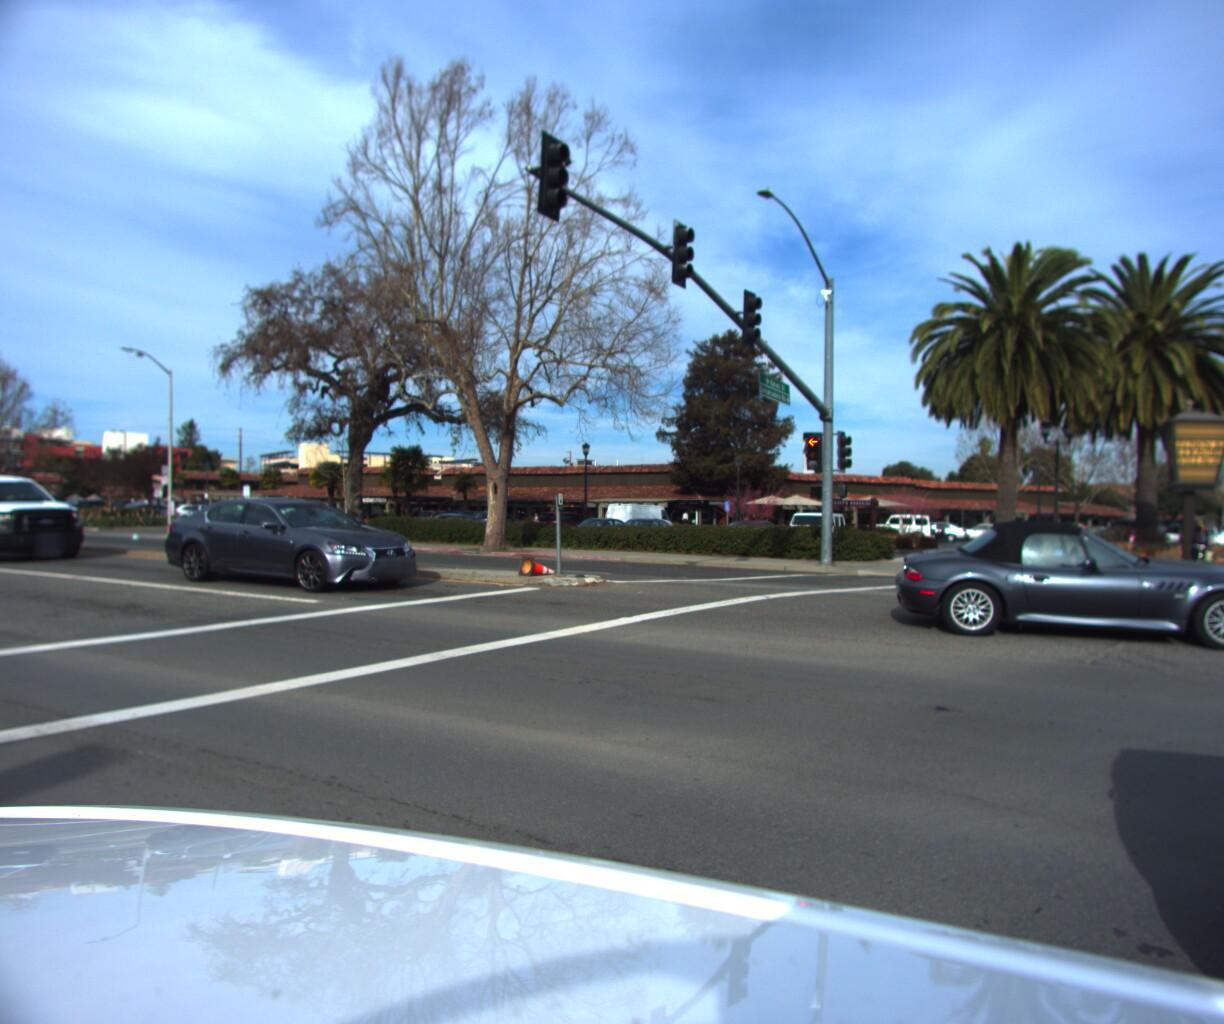car: (884, 516, 1224, 651), (155, 500, 430, 597), (0, 470, 98, 566), (777, 507, 862, 558), (1150, 517, 1224, 559), (718, 518, 793, 558), (1205, 518, 1224, 558)
